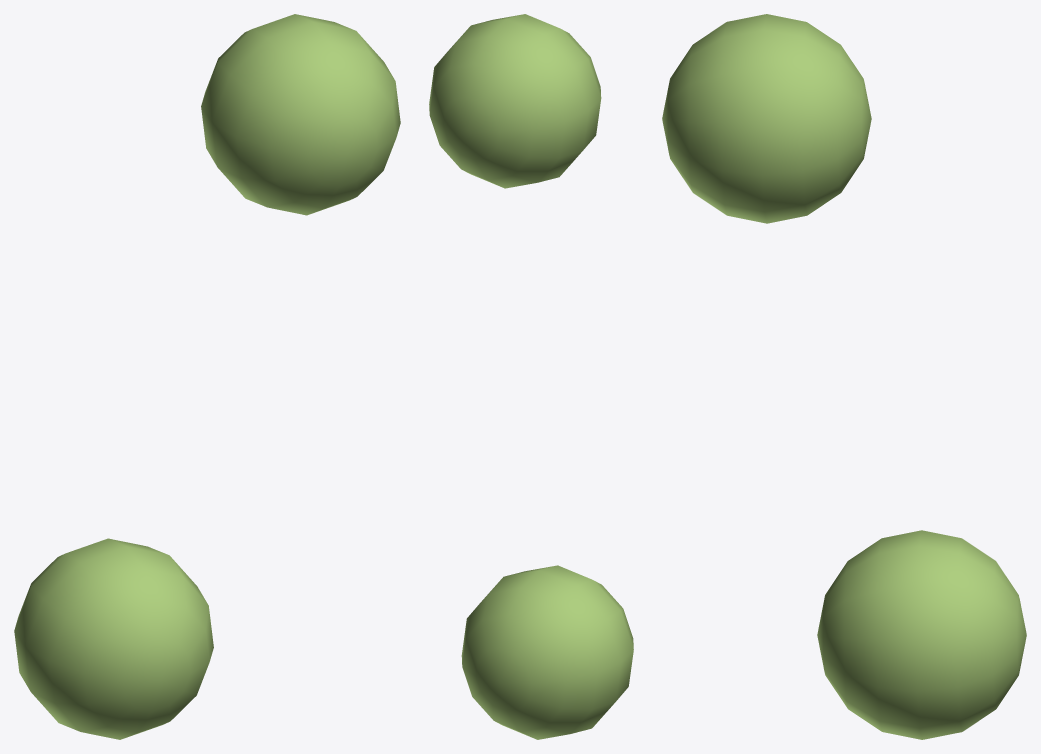
File: deep-popliteal-nodes-r.glb
The picture shows the model from 3 angles, left to right: view 1: azimuth 30°, elevation 25°; view 2: azimuth 150°, elevation 25°; view 3: azimuth 270°, elevation 25°; orthographic projection. The views are drawn at different scales.
Parts seen in each view (by area): view 1: Deep popliteal nodes.r; view 2: Deep popliteal nodes.r; view 3: Deep popliteal nodes.r.
Part boxes in pixels (<box>): Deep popliteal nodes.r: <box>14,14,400,739</box>; Deep popliteal nodes.r: <box>429,14,633,739</box>; Deep popliteal nodes.r: <box>662,14,1026,739</box>.
Bounding box in the file's own units: 0.00424 × 0.0104 × 0.00452.
